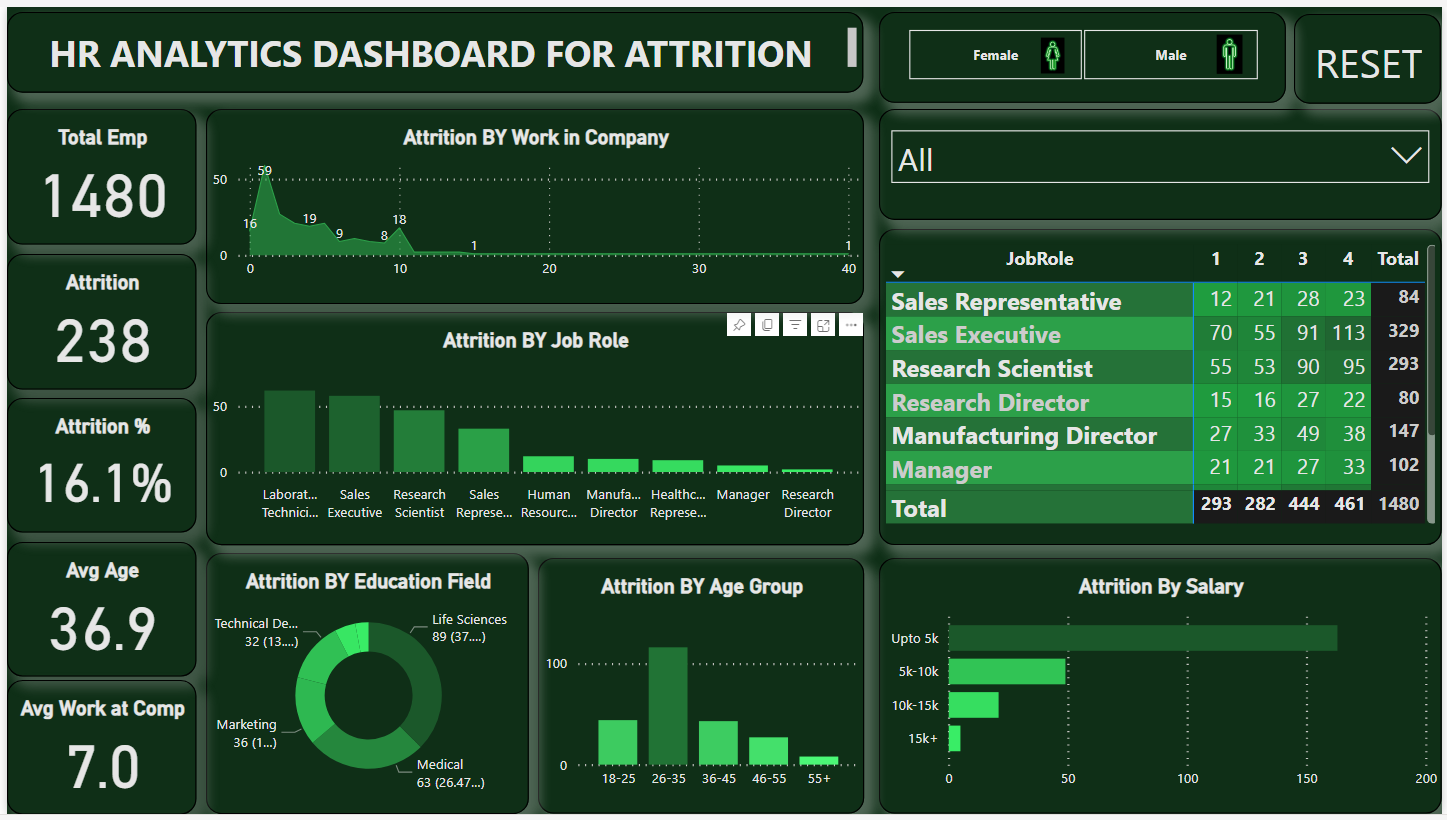

Layout of this report page (visuals, bound fields, positions):
{"tool":"powerbi","page":{"name":"Page 1","canvas":[1280,720],"ordinal":0},"visuals":[{"type":"card","title":"Total Emp","fields":{"Values":["CountNonNull(HR_Analytics.EmpID)"]},"box":[0,91.1,169,120.6],"z":0},{"type":"card","title":"Attrition","fields":{"Values":["All Measures.Attrition Count"]},"box":[0,220.1,169,120.6],"z":1000},{"type":"card","title":"Attrition %","fields":{"Values":["All Measures.Avg Atrritions"]},"box":[0,349,169,120],"z":2000},{"type":"barChart","title":"Attrition By Salary","fields":{"Category":["HR_Analytics.SalarySlab"],"Y":["All Measures.Attrition Count"]},"box":[778.2,491.6,501.8,228.4],"z":3000},{"type":"columnChart","title":"Attrition BY Age Group","fields":{"Y":["All Measures.Attrition Count"],"Category":["HR_Analytics.AgeGroup"]},"box":[473.4,491.6,291.1,228.4],"z":4000},{"type":"donutChart","title":"Attrition BY Education Field","fields":{"Category":["HR_Analytics.EducationField"],"Y":["All Measures.Attrition Count"]},"box":[177.4,486.7,288.1,233.3],"z":5000},{"type":"columnChart","title":"Attrition BY Job Role","fields":{"Y":["All Measures.Attrition Count"],"Category":["HR_Analytics.JobRole"]},"box":[177.4,272.5,587.1,207.8],"z":6000},{"type":"areaChart","title":"Attrition BY Work in Company","fields":{"Category":["HR_Analytics.YearsAtCompany"],"Y":["All Measures.Attrition Count"]},"box":[177.4,91.1,587.1,174.5],"z":7000},{"type":"card","title":"Avg Age","fields":{"Values":["Avg(HR_Analytics.Age)"]},"box":[0,477.3,169,120],"z":8000},{"type":"card","title":"Avg Work at Comp","fields":{"Values":["Avg(HR_Analytics.YearsAtCompany)"]},"box":[0,600,169,120],"z":9000},{"type":"slicer","fields":{"Values":["HR_Analytics.Gender"]},"box":[778.2,4.9,362.6,81.3],"z":10000},{"type":"pivotTable","fields":{"Rows":["HR_Analytics.JobRole"],"Columns":["HR_Analytics.JobSatisfaction"],"Values":["CountNonNull(HR_Analytics.EmpID)"]},"box":[778.2,198,501.8,282.3],"z":11000},{"type":"slicer","fields":{"Values":["HR_Analytics.Department"]},"box":[778.2,91.1,501.8,99],"z":12000},{"type":"textbox","box":[0,4.9,764.5,71.5],"z":13000},{"type":"actionButton","box":[1148.7,5.9,131.3,80.4],"z":14000},{"type":"image","box":[906.6,22.5,52.9,42.1],"z":15000},{"type":"image","box":[1065.4,19.6,51,45.1],"z":16000}]}

Visuals, with their boxes in screenshot pixels (x1, y1, x2, y2), scaled from the page's 1280x720 canvas onto the 1447x820 screenshot:
"Total Emp" card: (0,104,191,241)
"Attrition" card: (0,251,191,388)
"Attrition %" card: (0,397,191,534)
"Attrition By Salary" barChart: (880,560,1446,819)
"Attrition BY Age Group" columnChart: (535,560,864,819)
"Attrition BY Education Field" donutChart: (201,554,526,819)
"Attrition BY Job Role" columnChart: (201,310,864,547)
"Attrition BY Work in Company" areaChart: (201,104,864,302)
"Avg Age" card: (0,544,191,680)
"Avg Work at Comp" card: (0,683,191,819)
slicer - HR_Analytics.Gender: (880,6,1290,98)
pivotTable - HR_Analytics.JobRole x HR_Analytics.JobSatisfaction: (880,226,1446,547)
slicer - HR_Analytics.Department: (880,104,1446,217)
textbox: (0,6,864,87)
actionButton: (1299,7,1446,98)
image: (1025,26,1085,74)
image: (1204,22,1262,74)
